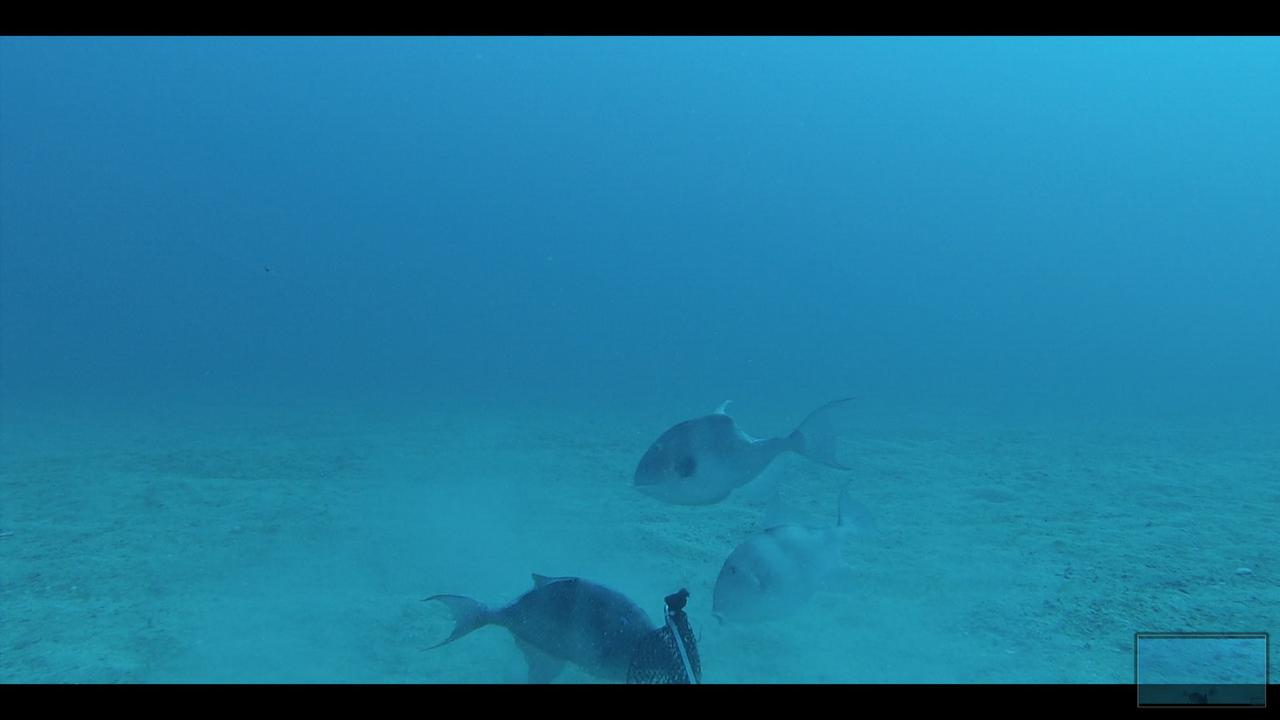balistes: (414, 562, 667, 682), (707, 478, 902, 624), (626, 388, 857, 507)
